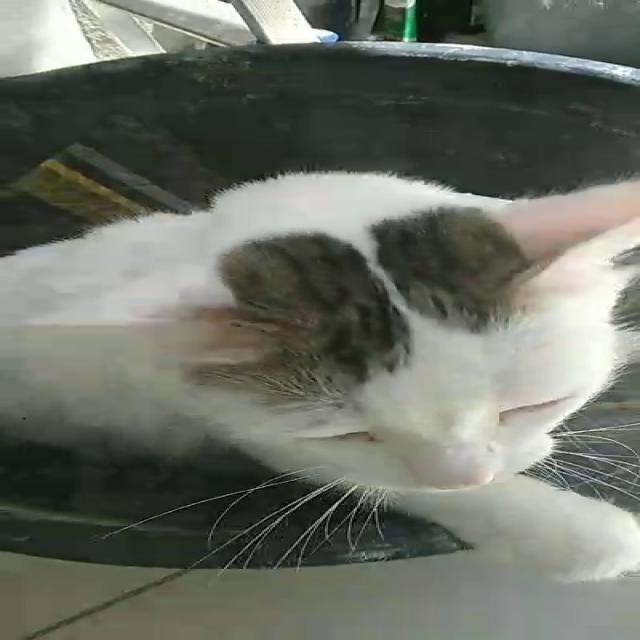Simba: (15, 144, 638, 602)
